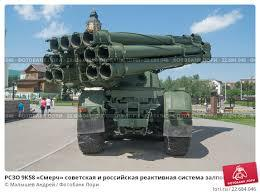MIL_SAM_TEL: (42, 28, 220, 152)
